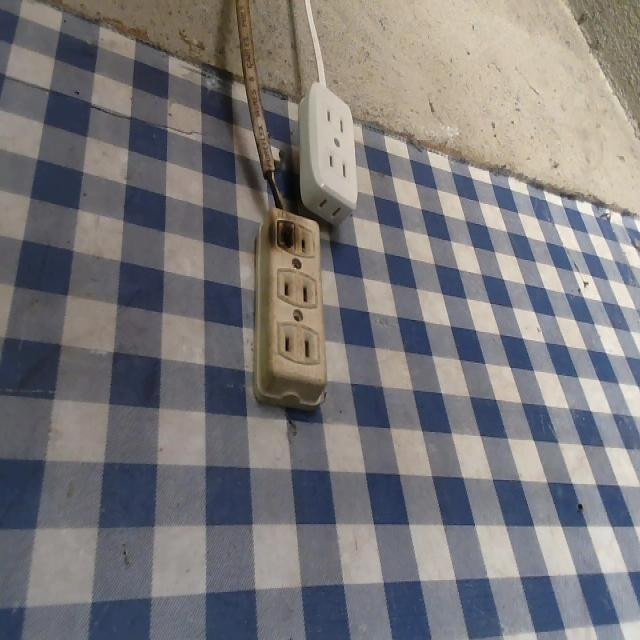-: (267, 214, 299, 258)
